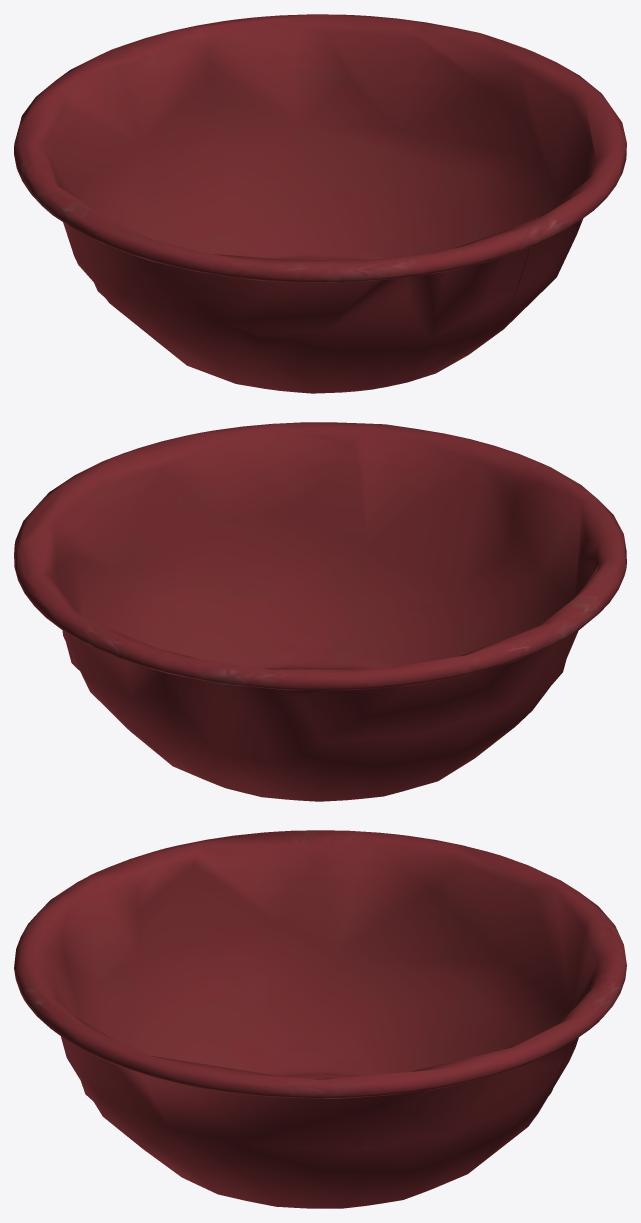
File: dishware_bowl_a01.glb
3 views of the same model, one above another, from view 1: azimuth 30°, elevation 25°; view 2: azimuth 150°, elevation 25°; view 3: azimuth 270°, elevation 25° (orthographic).
Visible parts, largest first — view 1: sm_dishware_bowl_a01_01; view 2: sm_dishware_bowl_a01_01; view 3: sm_dishware_bowl_a01_01.
Boxes of the visible parts, left/top/right/bottom form: sm_dishware_bowl_a01_01: left=14, top=14, right=626, bottom=393; sm_dishware_bowl_a01_01: left=14, top=422, right=626, bottom=801; sm_dishware_bowl_a01_01: left=14, top=830, right=626, bottom=1208.
Size of the model in its own units: 0.1628 by 0.055 by 0.1628.
1 material, 1 textured.
